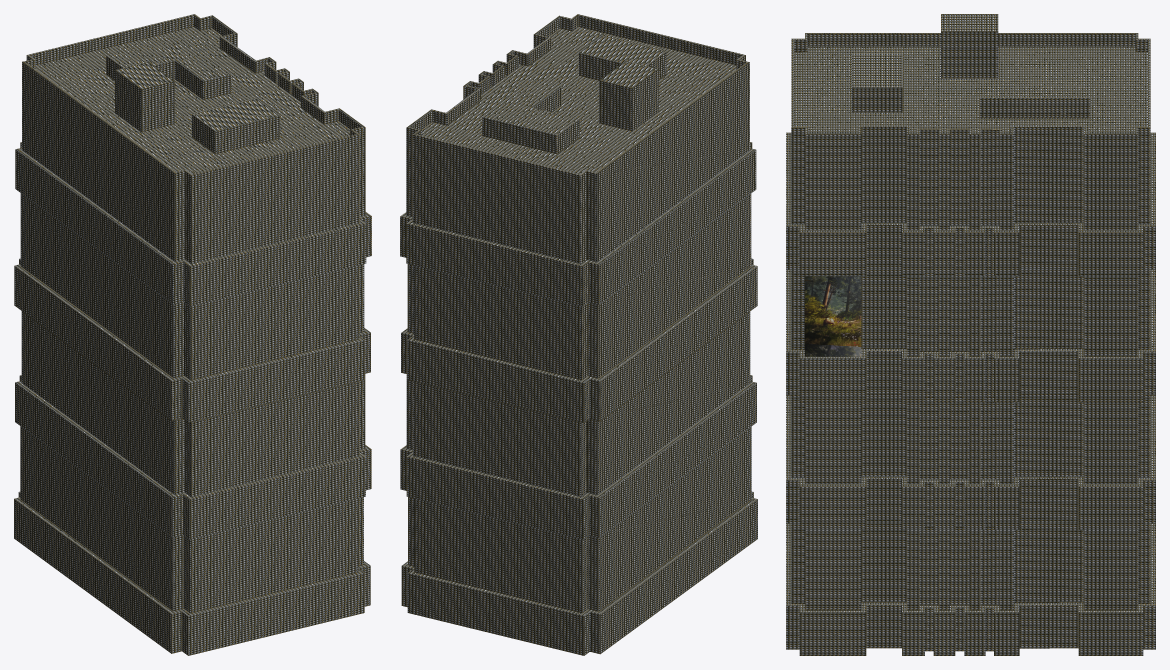
3 views of the same model, side by side, from view 1: azimuth 30°, elevation 25°; view 2: azimuth 150°, elevation 25°; view 3: azimuth 270°, elevation 25° (orthographic). The views are drawn at different scales.
Parts seen in each view (by area): view 1: SketchUp (×16); view 2: SketchUp (×16); view 3: SketchUp (×16).
Part boxes in pixels (bbox=[...]): SketchUp (×16): bbox=[14, 14, 371, 655]; SketchUp (×16): bbox=[400, 14, 757, 655]; SketchUp (×16): bbox=[786, 14, 1155, 655].
Size of the model in its own units: 246 by 361 by 597.
Materials: 1 (1 with a texture image).
